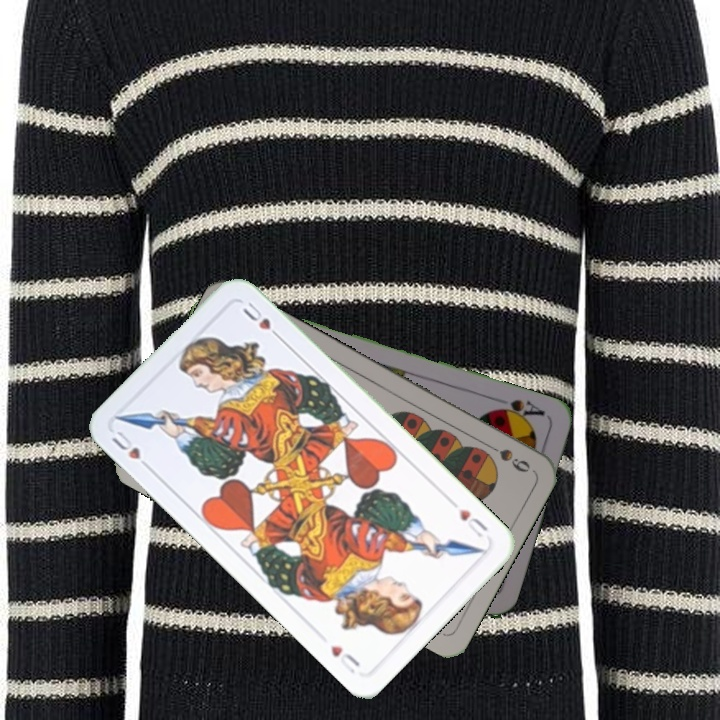HU: (107, 426, 155, 474), (455, 504, 491, 540)
S9: (480, 438, 533, 475)
SA: (489, 395, 548, 426)
